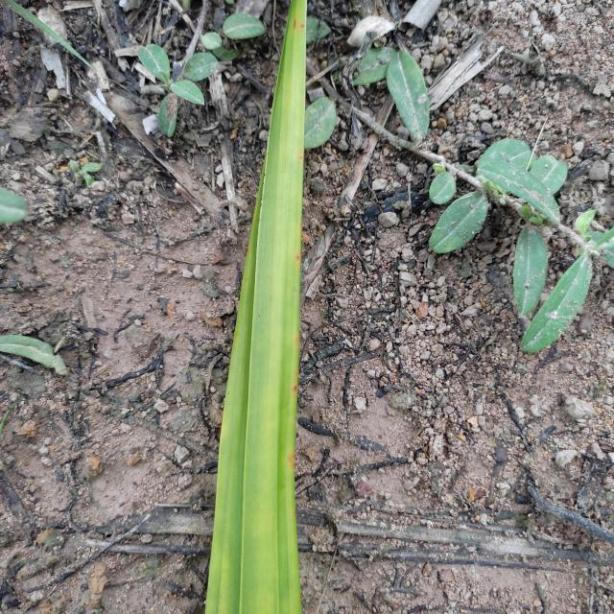nitrogen: (201, 0, 307, 614)
